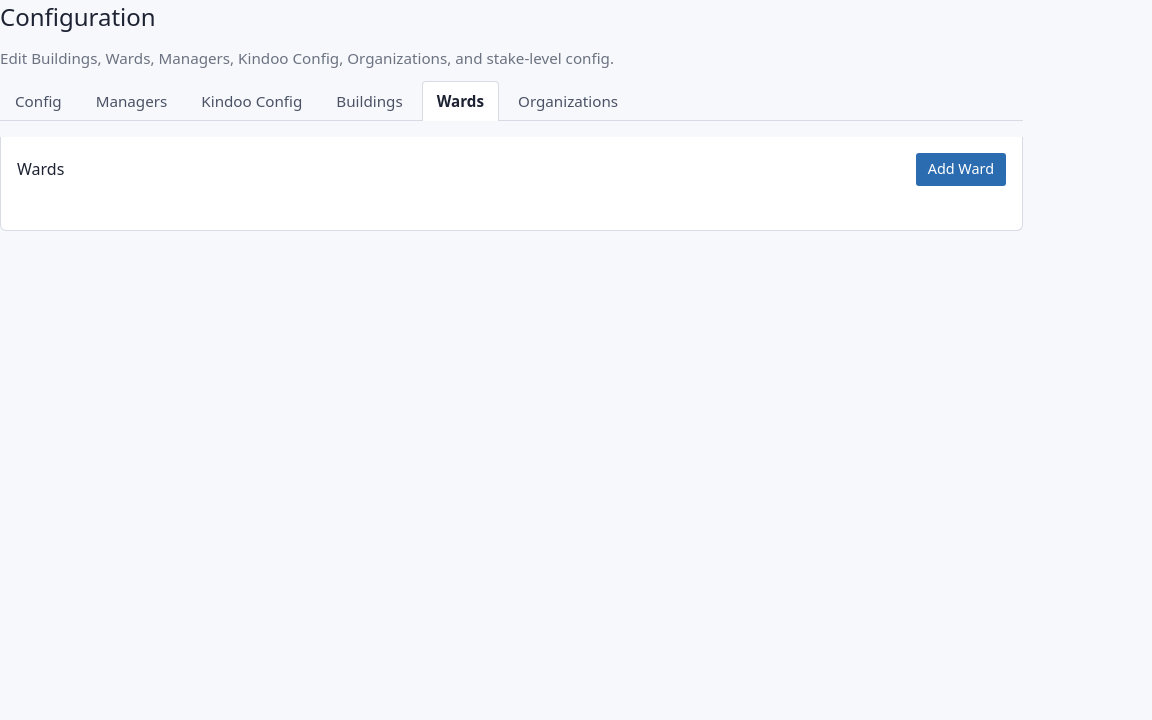
Test: <ConfigurationPage /> › warns under the ward-name field as soon as the typed name reads as a branch
The width and height of the screenshot is (1152, 720).
Click the button with test id "config-wards-add-button": (961, 169) [916, 153, 1006, 186]
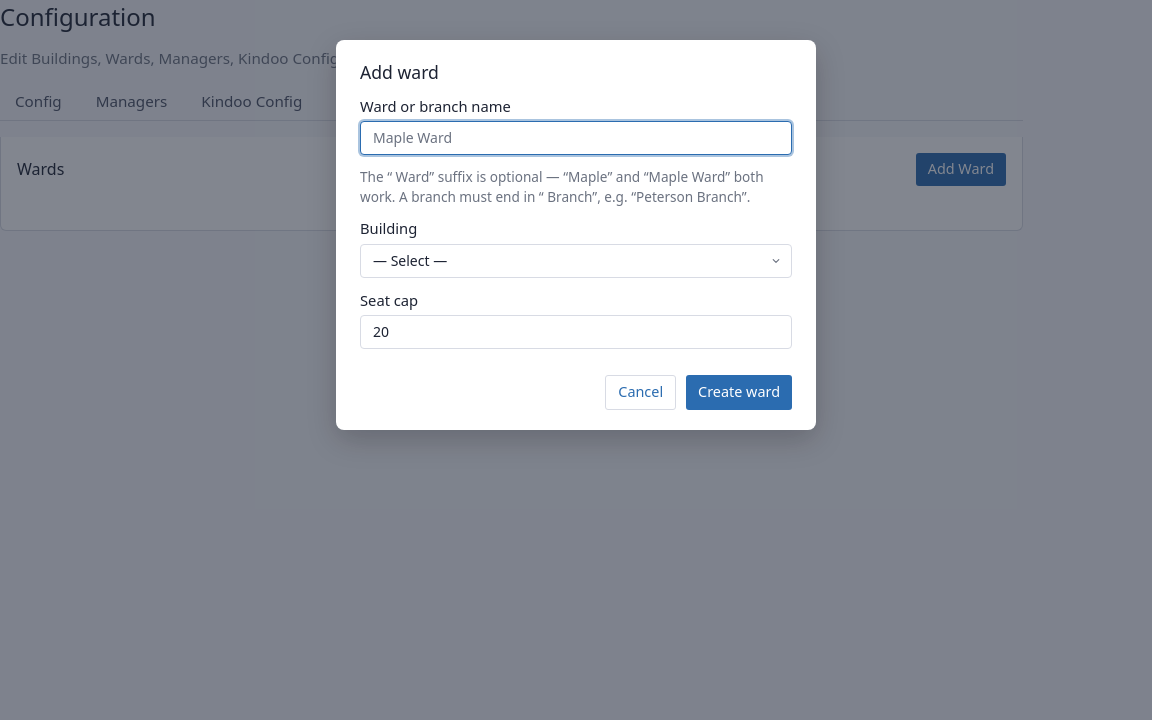
In the field labelled "Ward or branch name": (576, 138) [360, 121, 792, 155], type "Olive Branch"
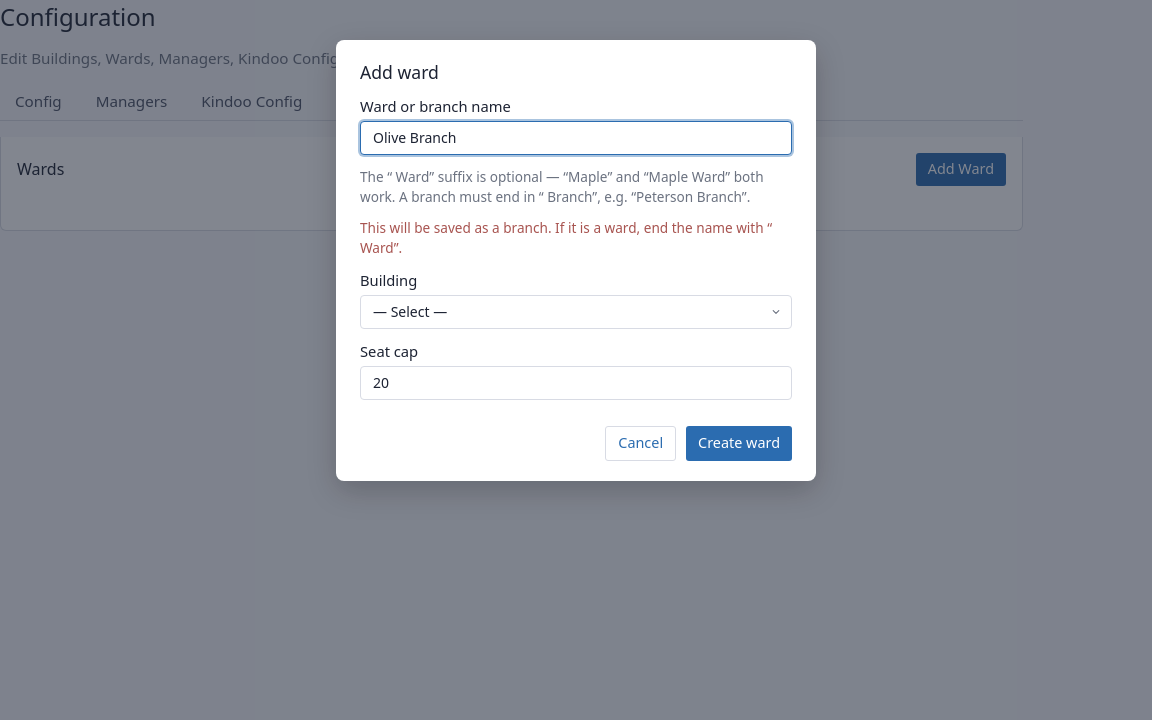
Check: the button with test id "config-ward-submit" is enabled, box [686, 426, 792, 461]
Check: the message with test id "config-ward-branch-warning" reads "This will be saved as a branch. If it is a ward, end the name with “ Ward”.", box [360, 218, 772, 257]
